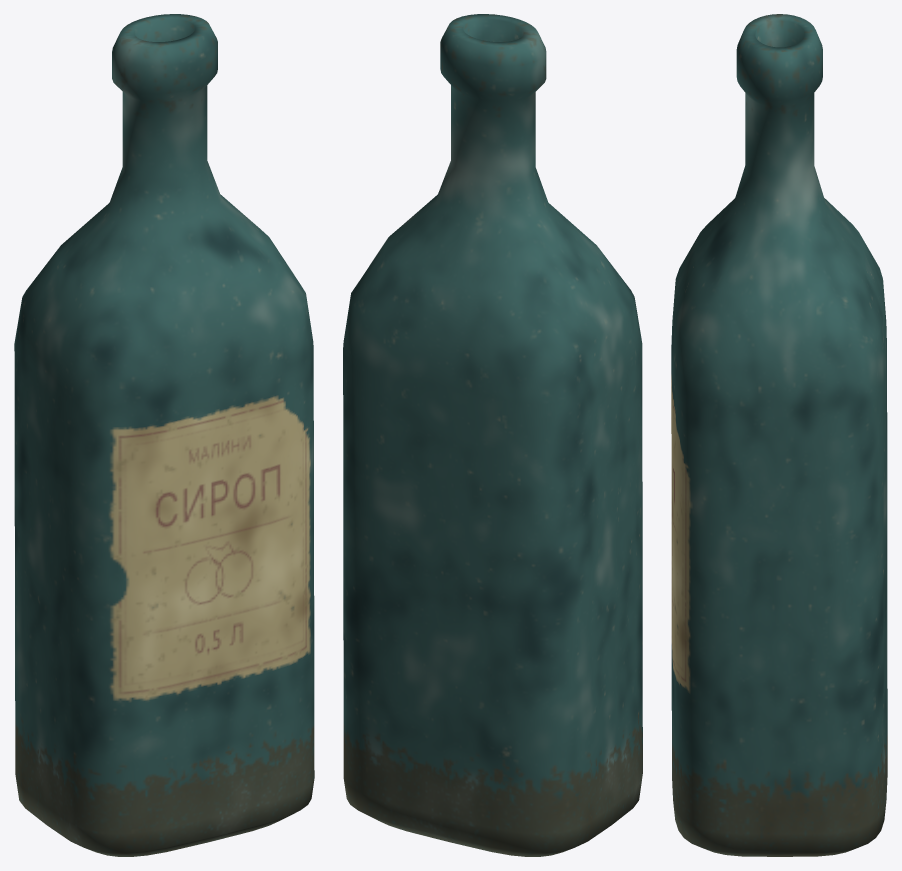
Rendered from common_bottle_square.fbx.
3 renders of one model, left to right at view 1: azimuth 30°, elevation 25°; view 2: azimuth 150°, elevation 25°; view 3: azimuth 270°, elevation 25°, orthographic.
Parts seen in each view (by area): view 1: SDT_Starter_common_bottle_square; view 2: SDT_Starter_common_bottle_square; view 3: SDT_Starter_common_bottle_square.
Part boxes in pixels (box(x1,y1,x2,y2)): SDT_Starter_common_bottle_square: box(14, 14, 314, 856); SDT_Starter_common_bottle_square: box(343, 14, 642, 856); SDT_Starter_common_bottle_square: box(671, 14, 887, 856).
Bounding box in the file's own units: 0.1125 × 0.35 × 0.0875.
